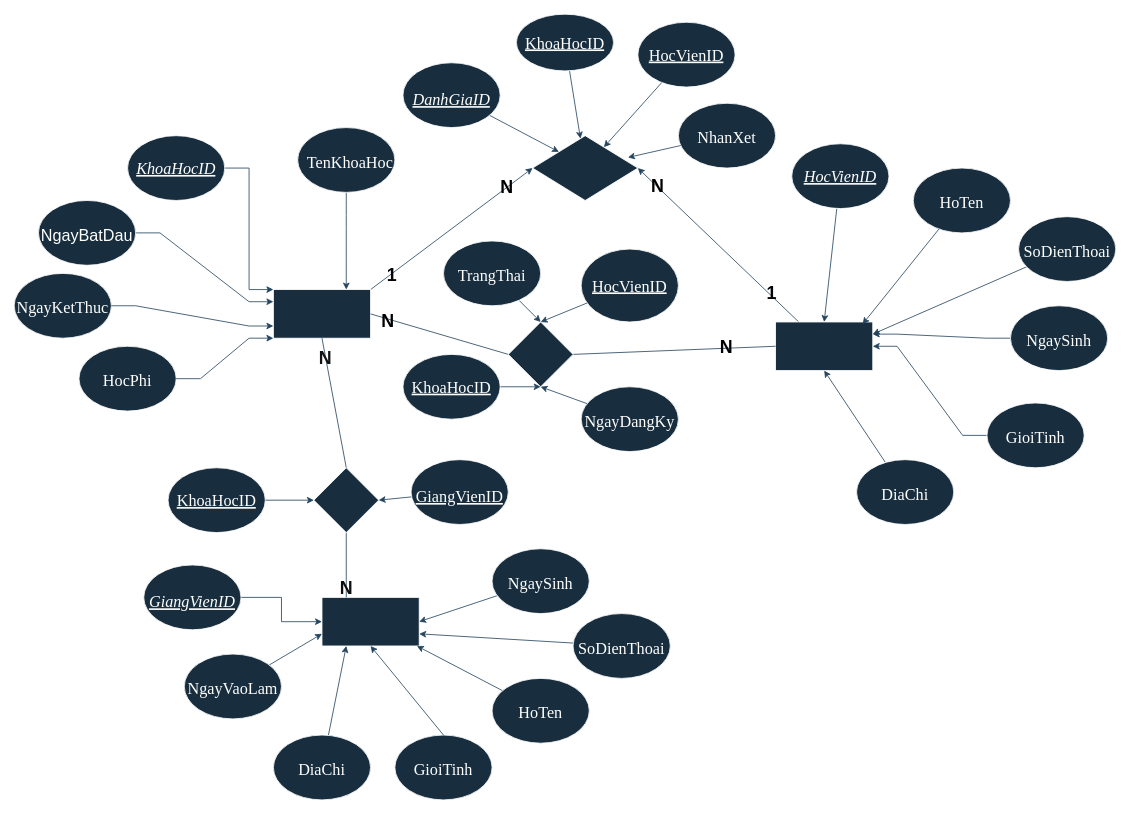
The diagram is 1130 pixels wide and 814 high, and some of its shapes have lost their labels. The box of each missing label's shape, as (x1, y1, x2, y2) in pixels:
DanhGia: (532, 135, 638, 200)
Dạy: (313, 467, 379, 533)
GiangVien: (321, 597, 419, 646)
HocVien: (775, 321, 873, 371)
Học: (507, 321, 573, 387)
KhoaHoc: (273, 289, 371, 338)
